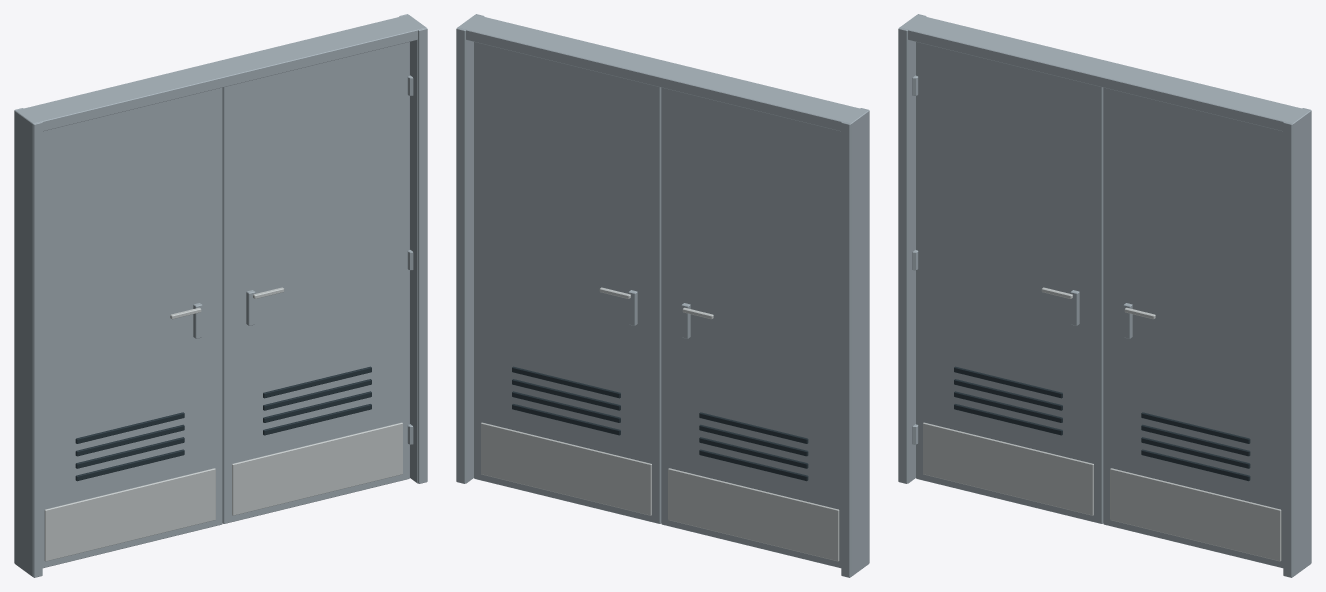
Rendered from b21_door_double_steel_2m.glb.
3 renders of one model, left to right at view 1: azimuth 30°, elevation 25°; view 2: azimuth 150°, elevation 25°; view 3: azimuth 330°, elevation 25°, orthographic.
Visible parts, largest first — view 1: b21_door_double_steel_2m; view 2: b21_door_double_steel_2m; view 3: b21_door_double_steel_2m.
Part boxes in pixels (left/top/right/bottom): b21_door_double_steel_2m: left=14, top=14, right=427, bottom=577; b21_door_double_steel_2m: left=456, top=14, right=869, bottom=577; b21_door_double_steel_2m: left=898, top=14, right=1311, bottom=577.
Size of the model in its own units: 2 by 2.2 by 0.176.
